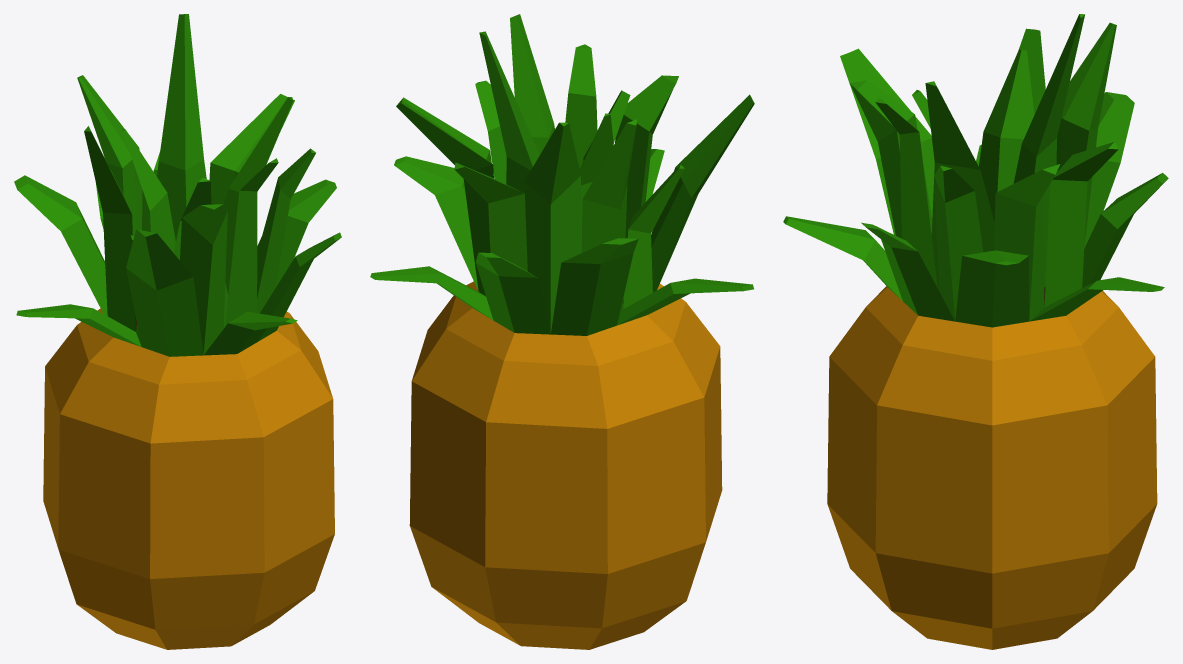
The model's file is pineapple01.obj.
The picture shows the model from 3 angles, left to right: view 1: azimuth 30°, elevation 25°; view 2: azimuth 150°, elevation 25°; view 3: azimuth 270°, elevation 25°; orthographic projection. The views are drawn at different scales.
Parts seen in each view (by area): view 1: Cylinder; view 2: Cylinder; view 3: Cylinder.
Boxes of the visible parts, x1=… form: Cylinder: x1=14, y1=14, x2=341, y2=649; Cylinder: x1=370, y1=14, x2=754, y2=649; Cylinder: x1=783, y1=14, x2=1168, y2=649.
Bounding box in the file's own units: 0.1752 × 0.2889 × 0.1639.
Materials: 1 (1 with a texture image).
